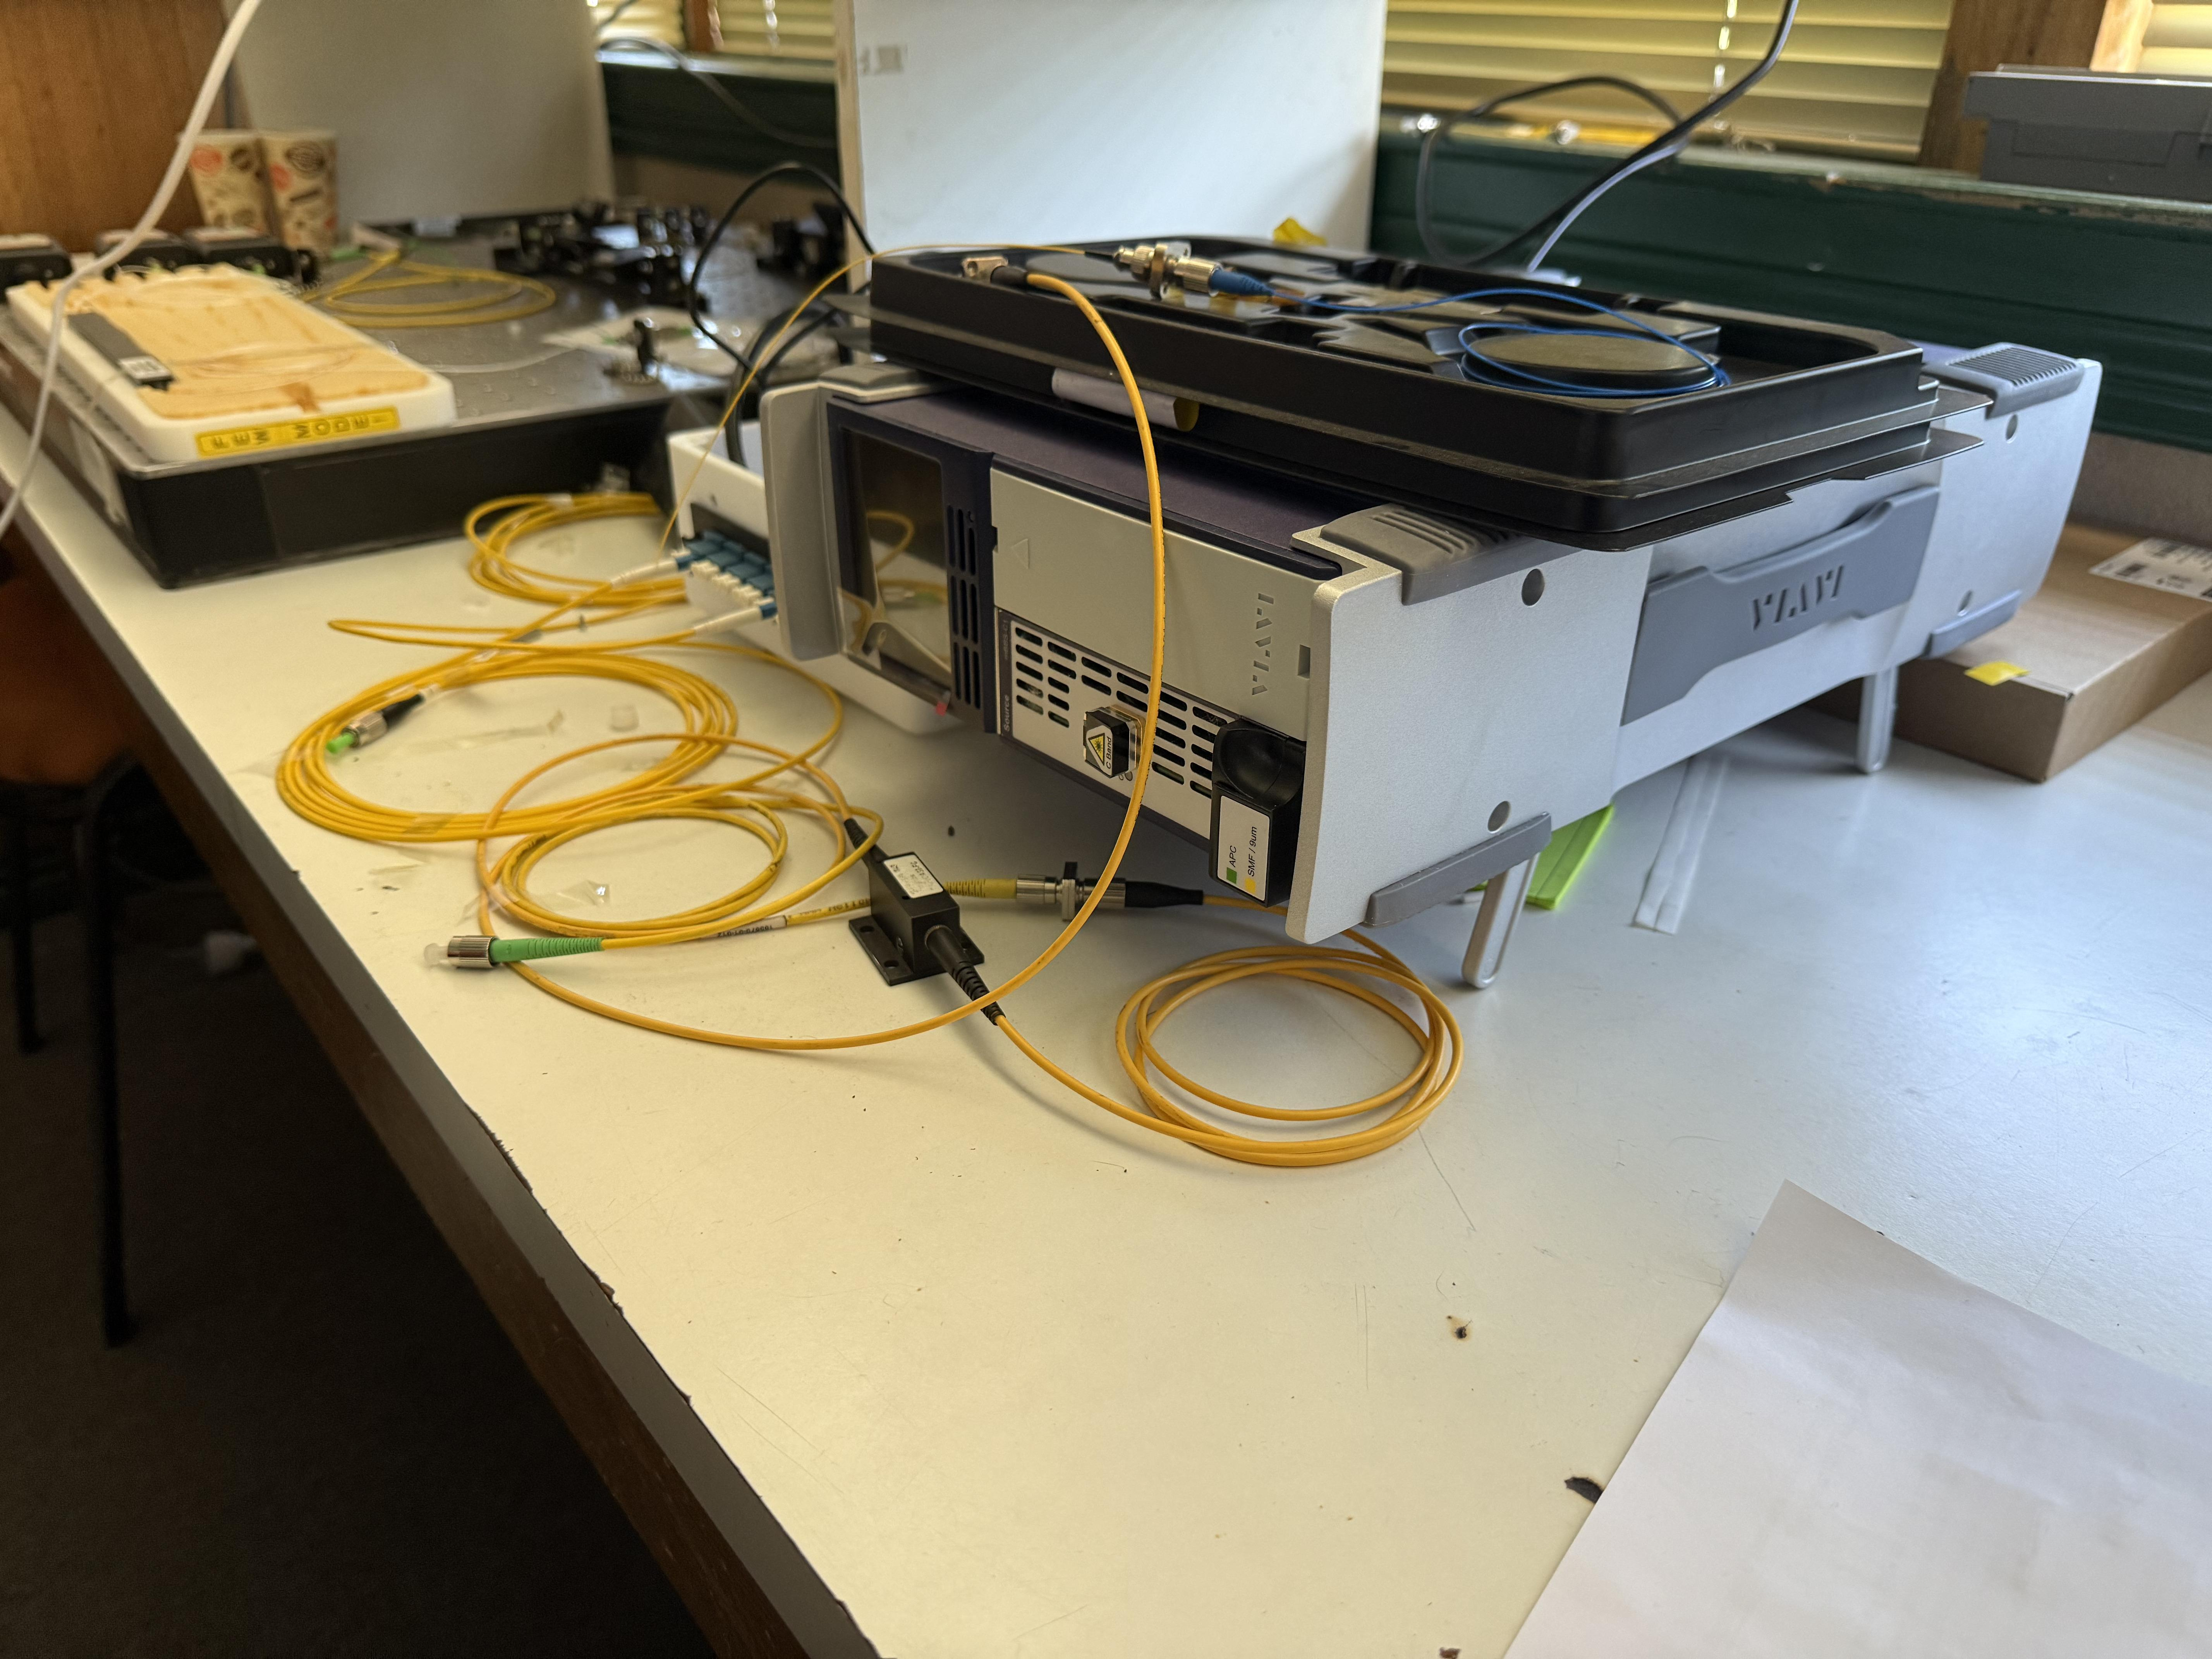laser: (728, 267, 2099, 972)
